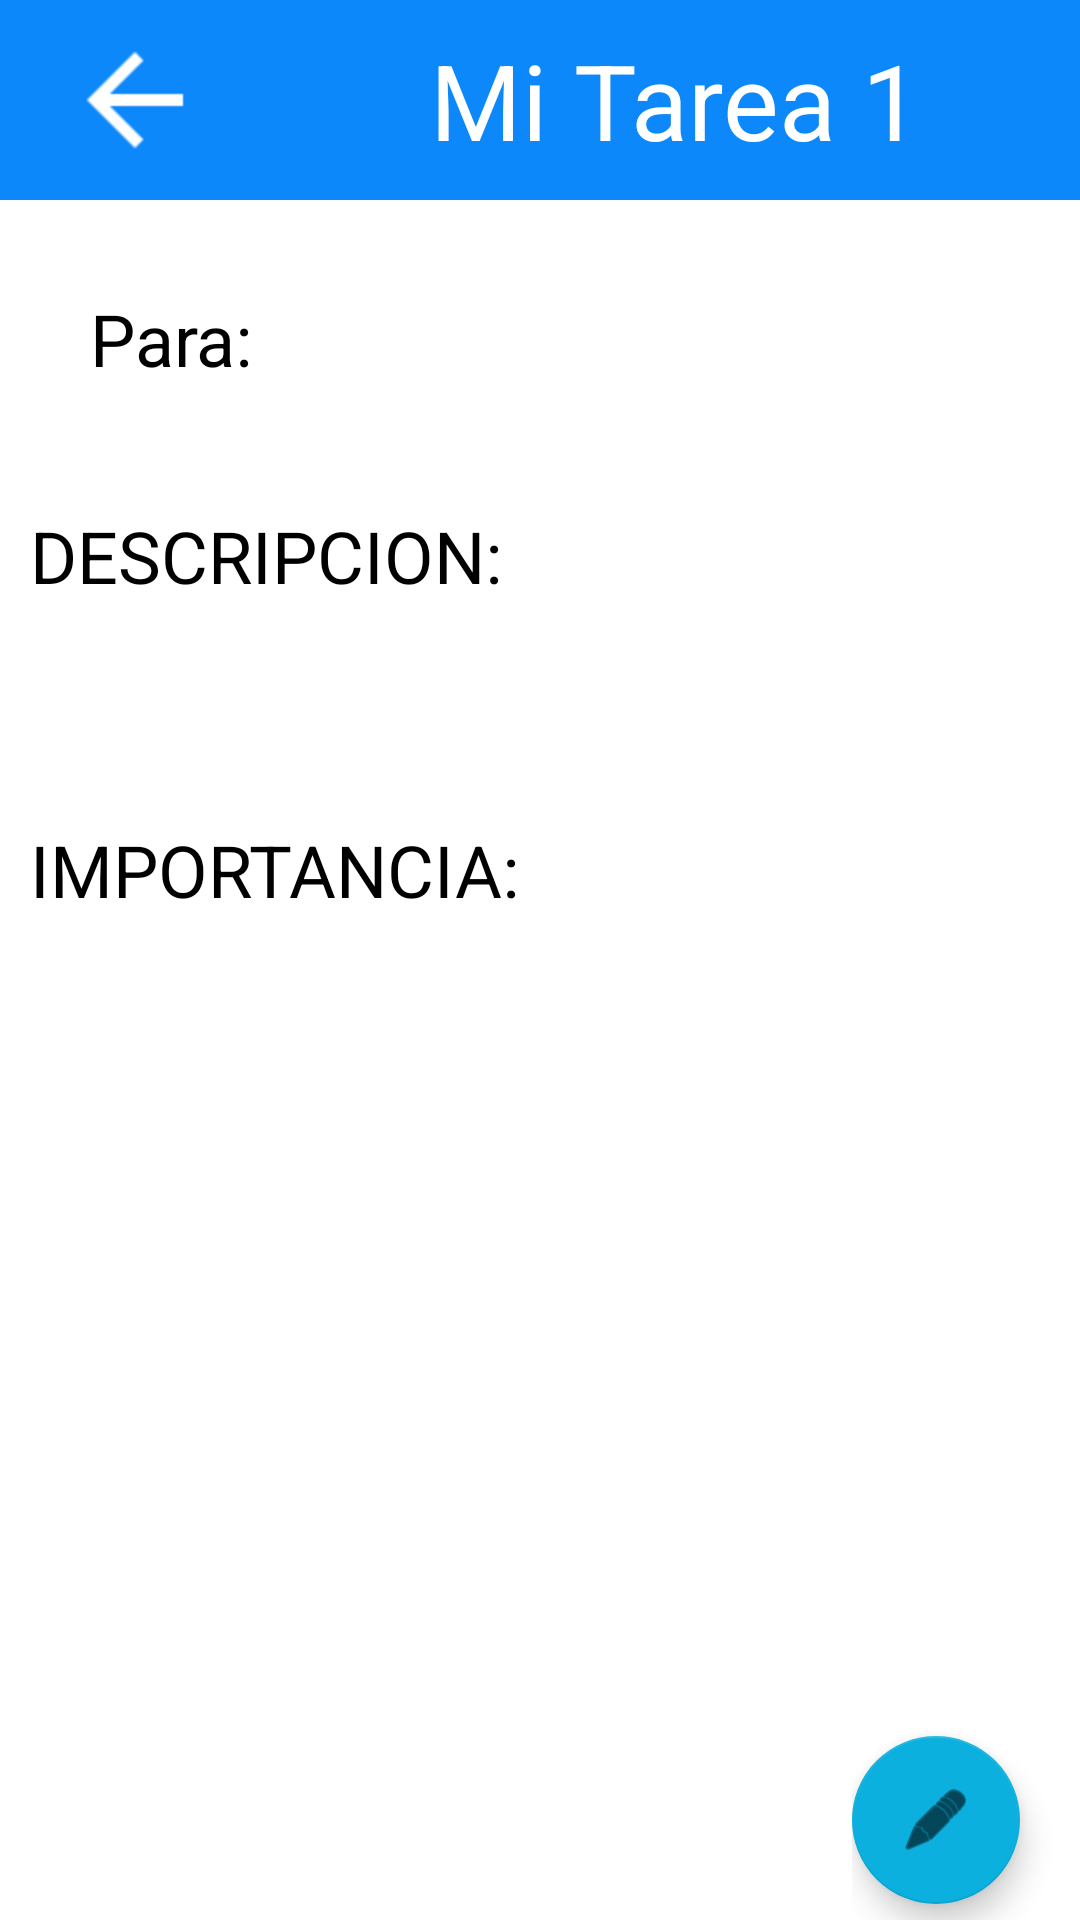

Screen size 1080px×1920px. Icon name, then its center in pixels as [x,y]:
edit: [936,1820]
